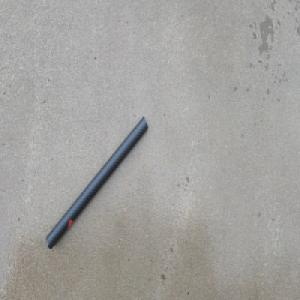LuggagePart: (44, 115, 148, 250)
